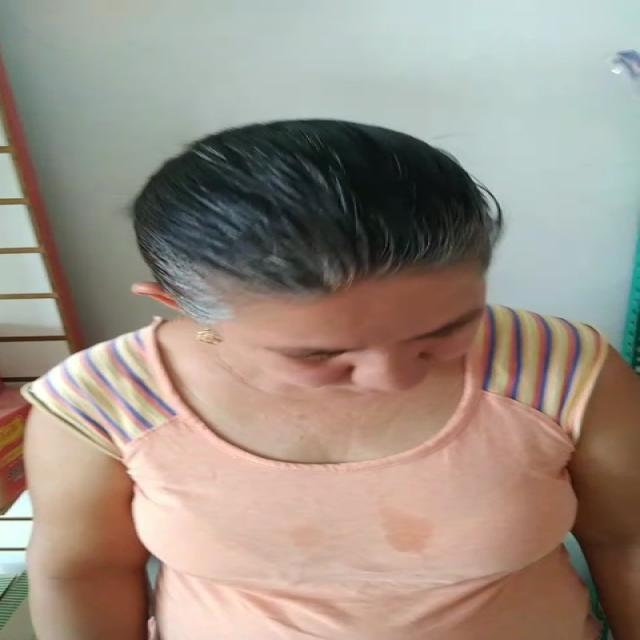9_cabeza_baja: (129, 116, 500, 392)
